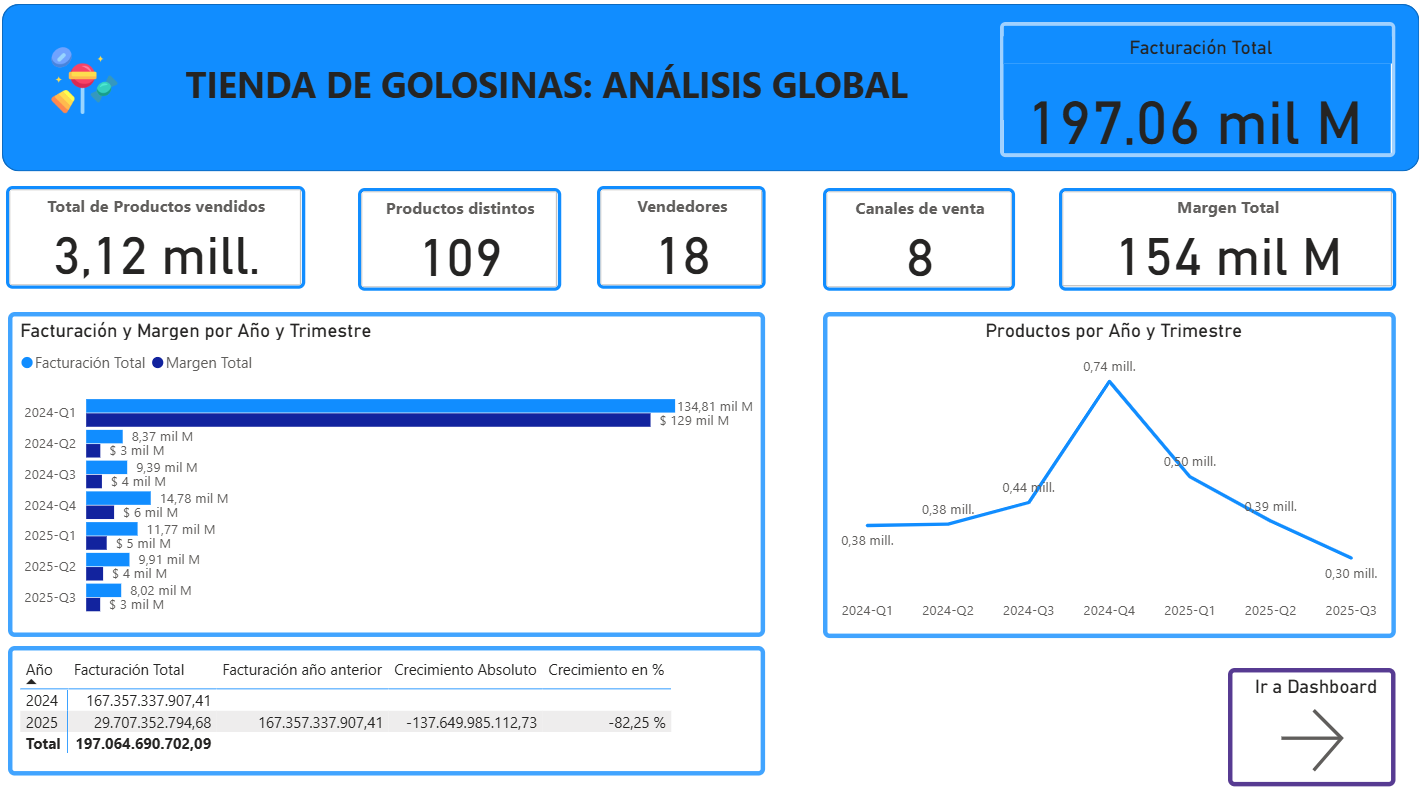

The page's visual inventory and layout, read from the dashboard file:
{"tool":"powerbi","page":{"name":"Datos principales","canvas":[1280,720],"ordinal":0},"visuals":[{"type":"shape","box":[3.9,9.7,1269.3,149.8],"z":0},{"type":"textbox","box":[162.6,53.9,718.2,60.2],"z":1000},{"type":"image","box":[18,43.3,118.3,70.8],"z":2000},{"type":"cardVisual","title":"Facturación Total","fields":{"Data":["Medidas.Facturación Total"]},"box":[897.7,26.4,353.8,121.5],"z":3000},{"type":"cardVisual","fields":{"Data":["Medidas.Cantidad de Productos"]},"box":[6.7,173.2,267.5,92.4],"z":4000},{"type":"cardVisual","fields":{"Data":["Medidas.Vendedores"]},"box":[536.1,173.2,151.1,92.4],"z":5000},{"type":"cardVisual","fields":{"Data":["Medidas.Productos Distintos"]},"box":[322.4,174.2,181.9,92.4],"z":6000},{"type":"cardVisual","fields":{"Data":["Medidas.Margen Total"]},"box":[950.3,174.5,301.7,91.6],"z":7000},{"type":"clusteredBarChart","title":"Facturación y Margen por Año y Trimestre","fields":{"Category":["Dim_Calendario_DAX.QuarterYear"],"Y":["Medidas.Facturación Total","Medidas.Margen Total"]},"box":[8.7,285.8,678.5,290.6],"z":8000},{"type":"pivotTable","fields":{"Rows":["Dim_Calendario_DAX.Date.Variación.Jerarquía de fechas.Año"],"Values":["Medidas.Facturación Total","Medidas.Total Ventas año anterior","Medidas.Crecimiento absoluto","Medidas.Crecimiento en %"]},"box":[8.7,585.1,678.5,116.5],"z":9000},{"type":"actionButton","title":"Ir a Dashboard","box":[1101.1,604.4,149.8,105.6],"z":10000},{"type":"cardVisual","fields":{"Data":["Medidas.Canales de venta"]},"box":[739.1,174.2,172.3,92.4],"z":11000},{"type":"lineChart","title":"Productos por Año y Trimestre","fields":{"Category":["Dim_Calendario_DAX.QuarterYear"],"Y":["Medidas.Cantidad de Productos"]},"box":[739.1,285.8,513,291.6],"z":12000}]}

Visuals, with their boxes in screenshot pixels (x1, y1, x2, y2), scaled from the page's 1280x720 canvas onto the 1424x788 screenshot:
shape: locate(4, 11, 1416, 175)
textbox: locate(181, 59, 980, 125)
image: locate(20, 47, 152, 125)
"Facturación Total" cardVisual: locate(999, 29, 1392, 162)
cardVisual - Medidas.Cantidad de Productos: locate(7, 190, 305, 291)
cardVisual - Medidas.Vendedores: locate(596, 190, 765, 291)
cardVisual - Medidas.Productos Distintos: locate(359, 191, 561, 292)
cardVisual - Medidas.Margen Total: locate(1057, 191, 1393, 291)
"Facturación y Margen por Año y Trimestre" clusteredBarChart: locate(10, 313, 765, 631)
pivotTable - Dim_Calendario_DAX.Date.Variación.Jerarquía de fechas.Año x Medidas.Facturación Total: locate(10, 640, 765, 768)
"Ir a Dashboard" actionButton: locate(1225, 661, 1392, 777)
cardVisual - Medidas.Canales de venta: locate(822, 191, 1014, 292)
"Productos por Año y Trimestre" lineChart: locate(822, 313, 1393, 632)
